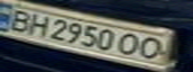0: (97, 27, 118, 53)
2: (45, 16, 72, 44)
5: (81, 22, 100, 51)
9: (63, 20, 84, 47)
B: (0, 7, 39, 34)
H: (21, 11, 54, 38)
O: (133, 34, 172, 62), (115, 30, 145, 57)
